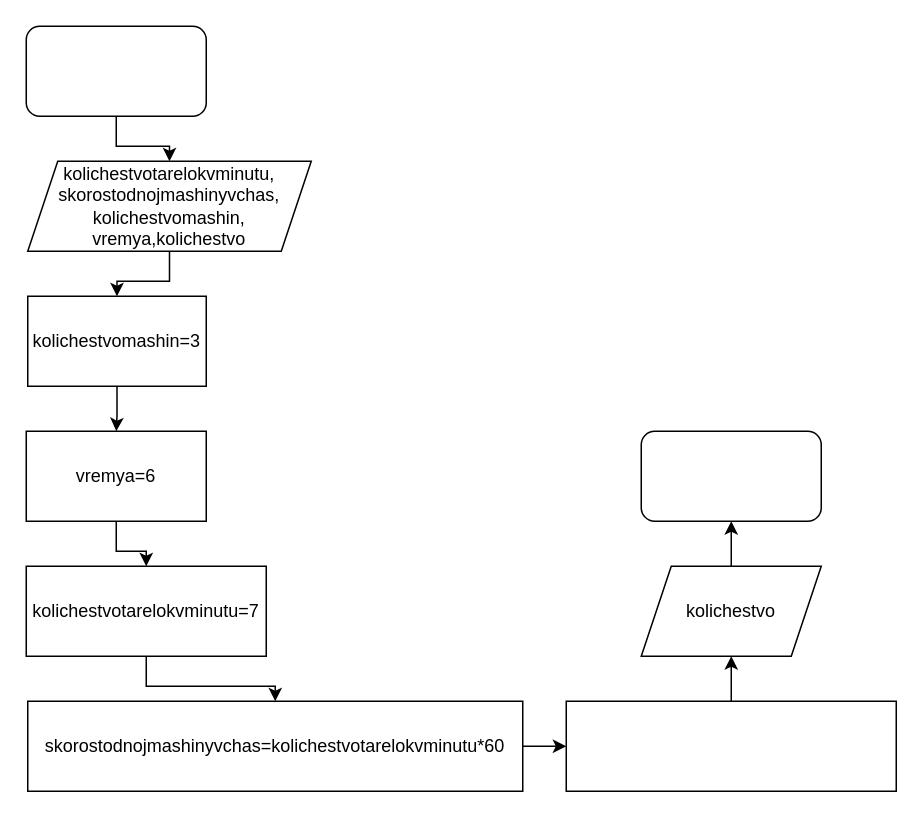
Image size: 923x818. Some labels were removed from this diagram. The centre of each missing label's shape, as x and y in pixels:
End: pixel 730 475
kolichestvo=skorostodnojmashinyvchas* kolichestvomashin* vremya: pixel 730 745
Start: pixel 115 70
